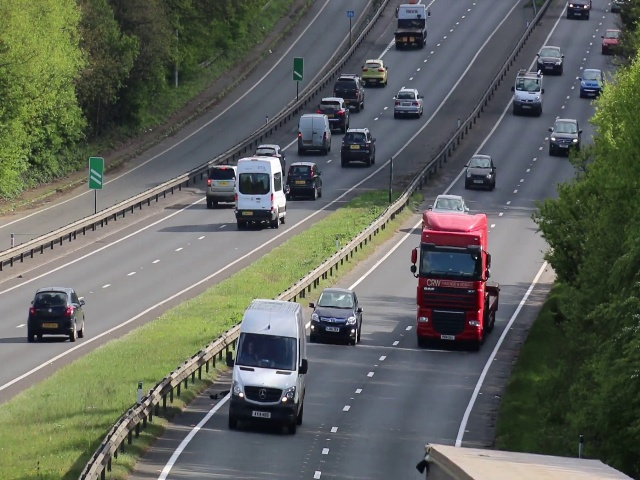car: (409, 227, 493, 352), (224, 313, 306, 432), (28, 286, 87, 344), (236, 161, 287, 228), (310, 289, 361, 345), (296, 113, 332, 154), (395, 2, 425, 49), (512, 69, 543, 114), (340, 126, 375, 165), (290, 162, 323, 199), (206, 167, 232, 210), (463, 154, 495, 188), (550, 116, 574, 155), (395, 88, 422, 117), (362, 58, 387, 88), (534, 48, 565, 72), (578, 69, 601, 95), (336, 77, 361, 99)
